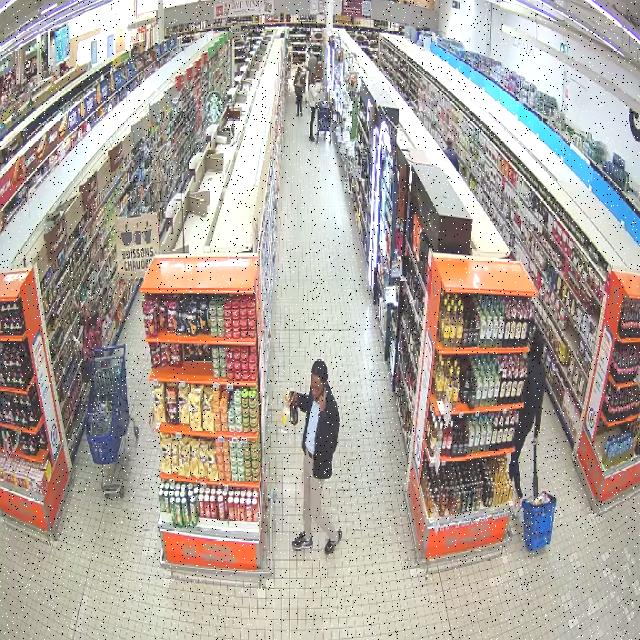article: (279, 392, 290, 434), (290, 389, 298, 426)
bags: (81, 358, 92, 383)
hands: (318, 394, 326, 412), (290, 391, 298, 406), (531, 436, 537, 446)
person: (288, 360, 342, 553), (508, 329, 545, 512), (76, 296, 102, 381)
